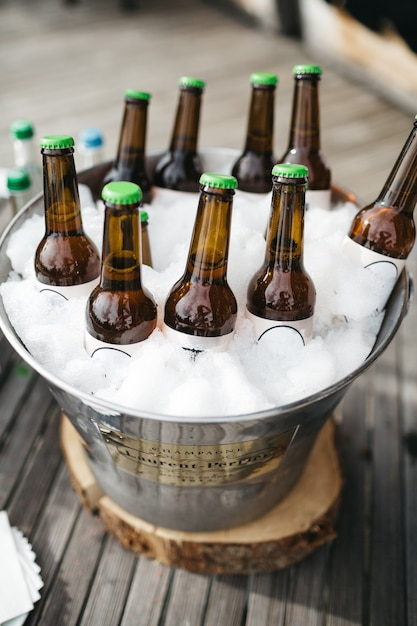alcohol: (339, 114, 417, 320), (246, 161, 319, 355), (83, 182, 162, 361), (165, 171, 238, 361), (31, 133, 103, 303), (274, 65, 336, 209), (99, 90, 162, 205), (155, 77, 211, 191), (229, 73, 278, 198)
